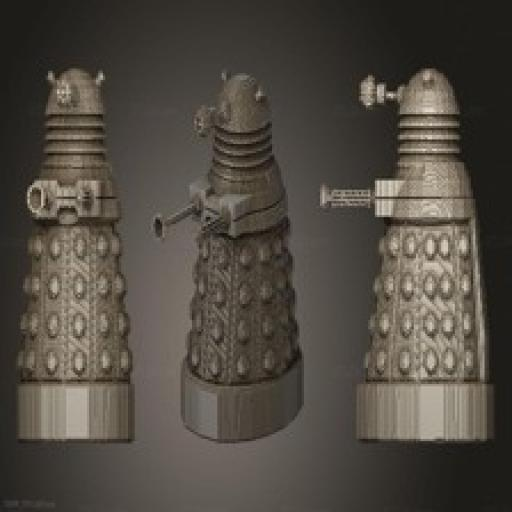dalek: (314, 65, 499, 449), (152, 59, 311, 448), (13, 55, 138, 451)
